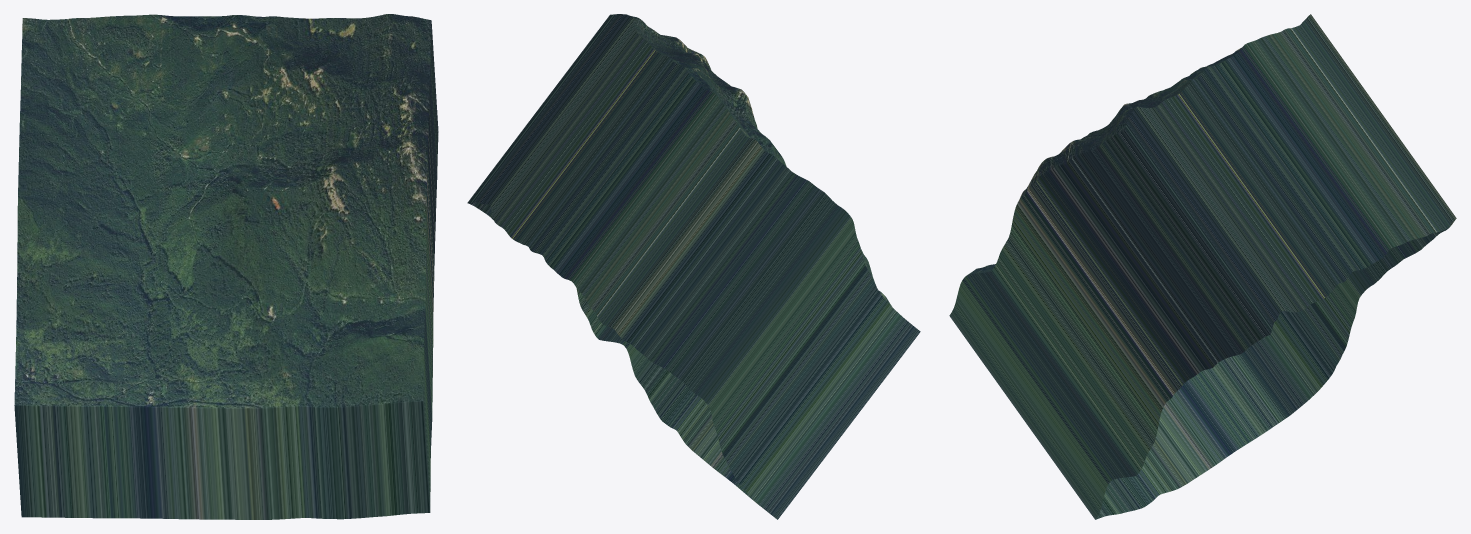
3 views of the same model, side by side, from view 1: azimuth 30°, elevation 25°; view 2: azimuth 150°, elevation 25°; view 3: azimuth 270°, elevation 25° (orthographic). The views are drawn at different scales.
Bounding box in the file's own units: 5769 × 5552 × 6061.
Materials: 1 (1 with a texture image).
